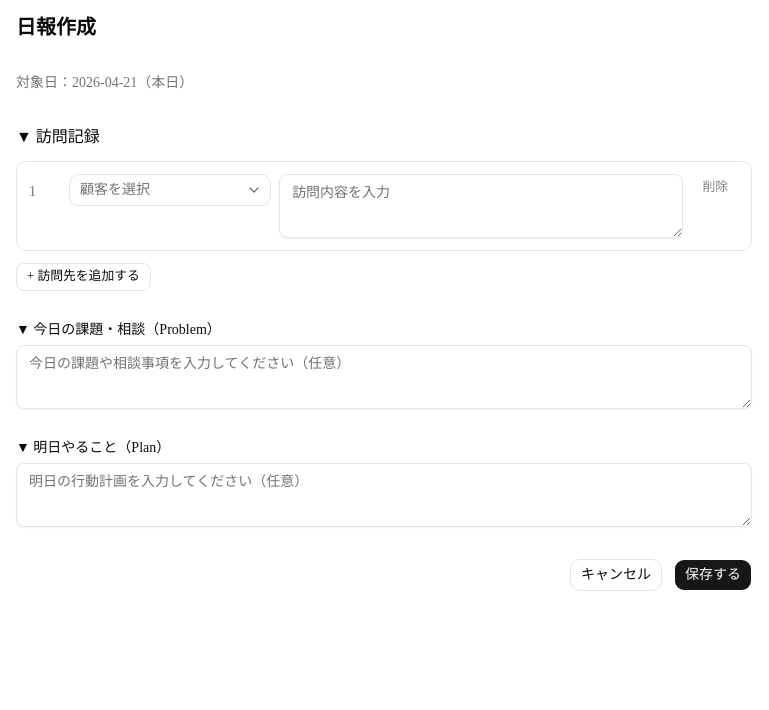
Test case: SCR-T-003-3: 訪問先の追加 › 「訪問先を追加する」をクリックすると入力行が1行増える
expect the number of buttons "削除" is 1: met, box [691,174,739,202]
Click the button "+ 訪問先を追加する".
click(83, 277)  # box [16,263,151,291]
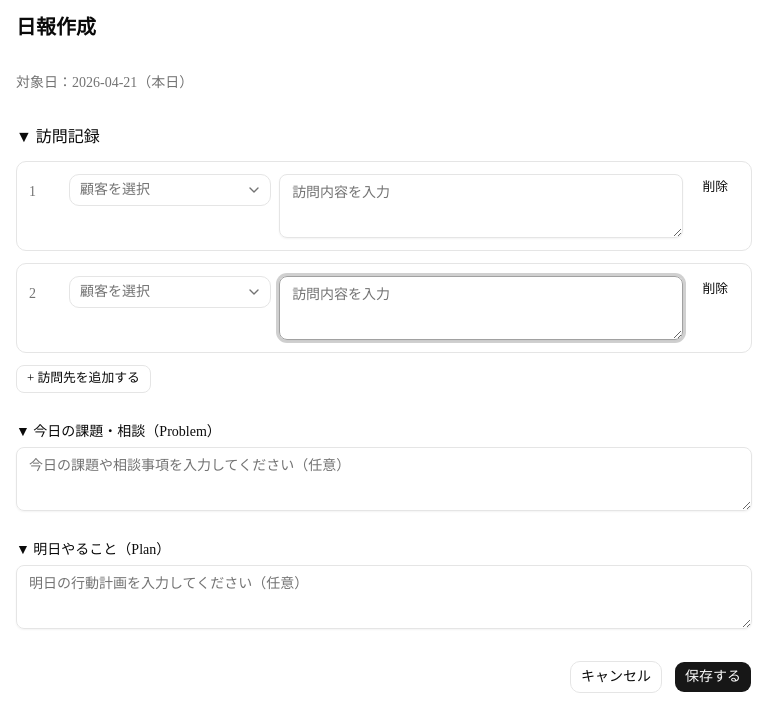
expect the number of buttons "削除" is 2: met, box [691,174,739,202]; [691,276,739,304]
